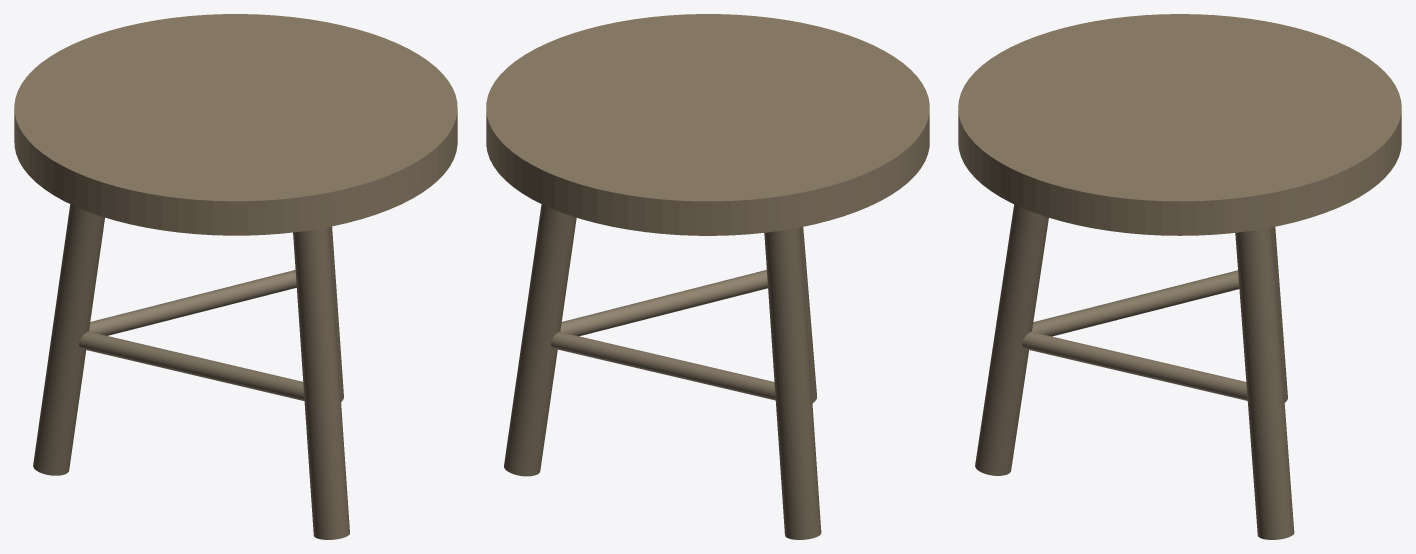
Rendered from editable-stool.glb.
3 views of the same model, side by side, from view 1: azimuth 30°, elevation 25°; view 2: azimuth 150°, elevation 25°; view 3: azimuth 270°, elevation 25° (orthographic).
Visible parts, largest first — view 1: Seat, Leg 3, Leg 1, Brace 3-1, Brace 1-2, Leg 2; view 2: Seat, Leg 1, Leg 2, Brace 1-2, Brace 2-3, Leg 3; view 3: Seat, Leg 2, Leg 3, Brace 2-3, Brace 3-1, Leg 1.
Part boxes in pixels (bbox=[...]): Seat: bbox=[14, 14, 457, 235]; Leg 3: bbox=[293, 227, 349, 539]; Leg 1: bbox=[33, 204, 104, 475]; Brace 3-1: bbox=[79, 331, 304, 401]; Brace 1-2: bbox=[89, 270, 296, 335]; Leg 2: bbox=[329, 226, 343, 401]; Seat: bbox=[486, 14, 929, 235]; Leg 1: bbox=[764, 227, 821, 539]; Leg 2: bbox=[504, 204, 576, 476]; Brace 1-2: bbox=[551, 331, 775, 400]; Brace 2-3: bbox=[560, 270, 767, 336]; Leg 3: bbox=[800, 227, 816, 402]; Seat: bbox=[958, 14, 1401, 235]; Leg 2: bbox=[1235, 227, 1294, 539]; Leg 3: bbox=[975, 204, 1048, 475]; Brace 2-3: bbox=[1022, 331, 1247, 400]; Brace 3-1: bbox=[1032, 270, 1239, 336]; Leg 1: bbox=[1271, 227, 1287, 402].
Size of the model in its own units: 0.5732 by 0.515 by 0.5732.
